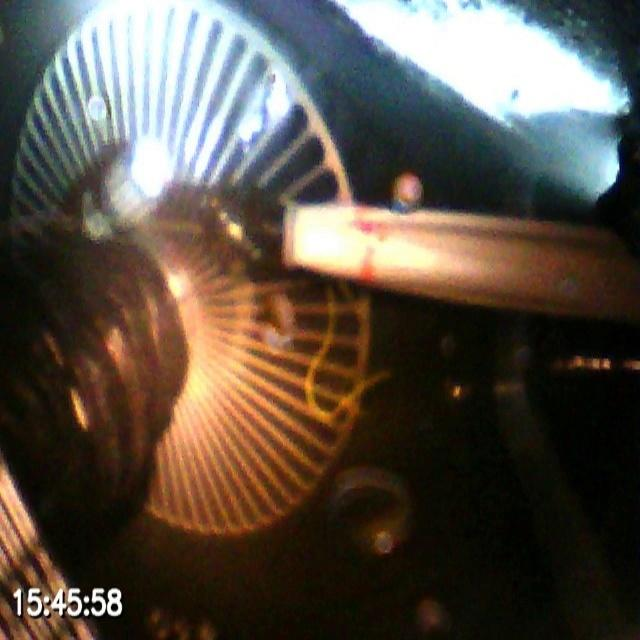head: (82, 135, 176, 239)
